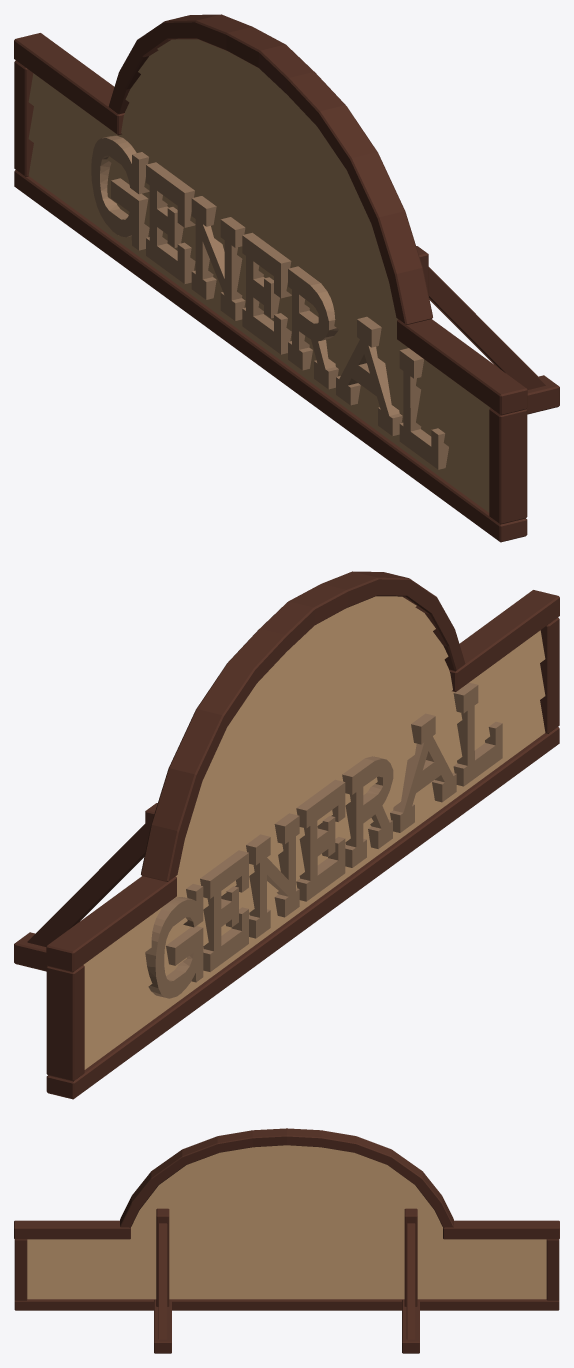
File: General Sign A.glb
3 renders of one model, top to bottom at view 1: azimuth 30°, elevation 25°; view 2: azimuth 150°, elevation 25°; view 3: azimuth 270°, elevation 25°, orthographic. The views are drawn at different scales.
Parts seen in each view (by area): view 1: General Sign A; view 2: General Sign A; view 3: General Sign A.
Part boxes in pixels (box(x1,y1,x2,y2)): General Sign A: box(14, 14, 559, 542); General Sign A: box(14, 571, 559, 1099); General Sign A: box(14, 1128, 559, 1353).
Bounding box in the file's own units: 146 × 235 × 660.
